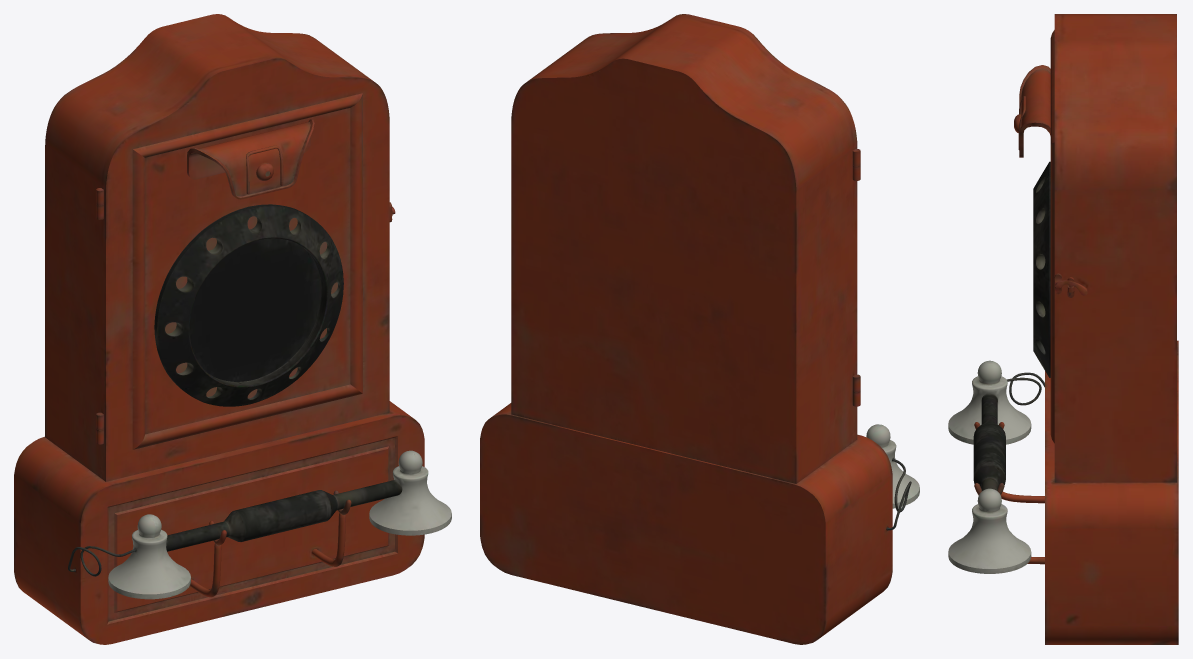
The model's file is vintage_telephone_wall_clock.glb.
3 views of the same model, side by side, from view 1: azimuth 30°, elevation 25°; view 2: azimuth 150°, elevation 25°; view 3: azimuth 270°, elevation 25° (orthographic).
Parts seen in each view (by area): view 1: vintage_telephone_wall_clock; view 2: vintage_telephone_wall_clock; view 3: vintage_telephone_wall_clock.
Part boxes in pixels (box(x1,y1,x2,y2)): vintage_telephone_wall_clock: box(14, 14, 451, 644); vintage_telephone_wall_clock: box(480, 14, 919, 644); vintage_telephone_wall_clock: box(948, 14, 1178, 644).
Bounding box in the file's own units: 0.3428 × 0.5012 × 0.1926.
2 materials, 2 textured.
